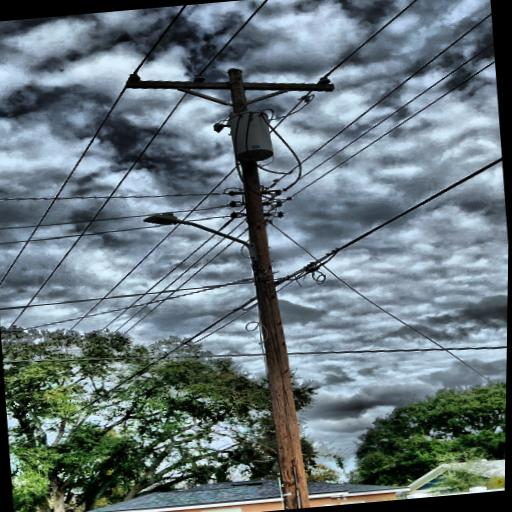insulator: (127, 73, 140, 83), (193, 74, 206, 84), (318, 76, 331, 85)
pole: (204, 56, 341, 512)
street light: (141, 204, 262, 272)
transformer: (226, 108, 276, 164)
